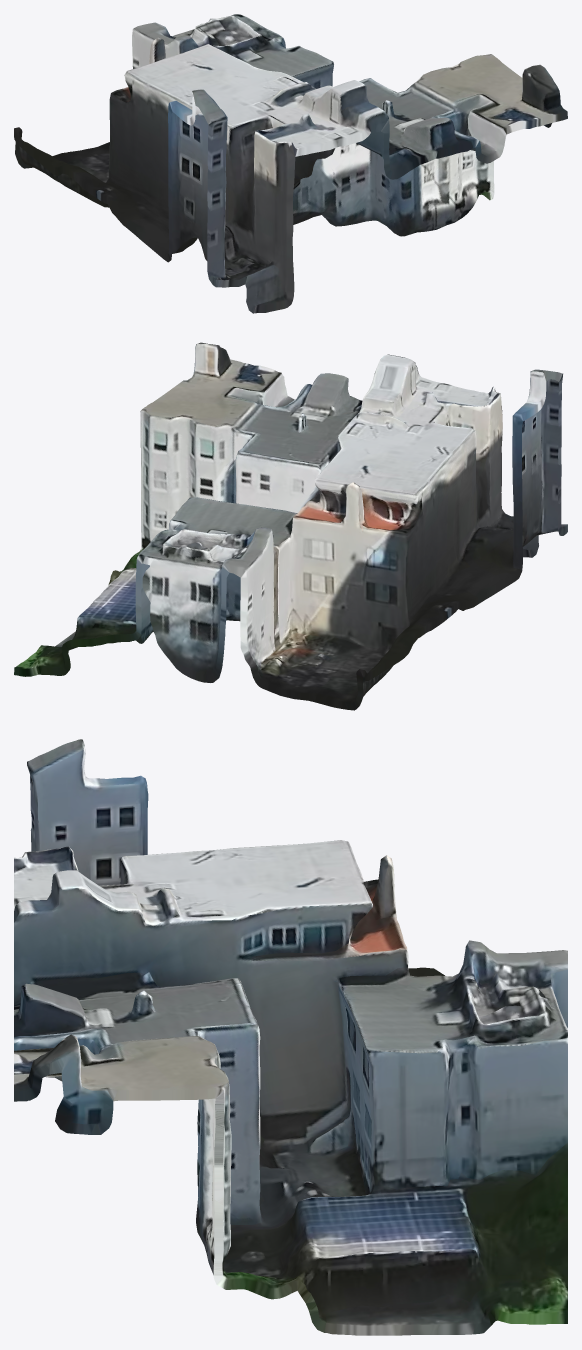
Rendered from z20-167728-405196-h0-yup-uvflip-v3-world.glb.
3 renders of one model, top to bottom at view 1: azimuth 30°, elevation 25°; view 2: azimuth 150°, elevation 25°; view 3: azimuth 270°, elevation 25°, orthographic. The views are drawn at different scales.
Size of the model in its own units: 30.2 by 21.96 by 30.32.
1 material, 1 textured.
